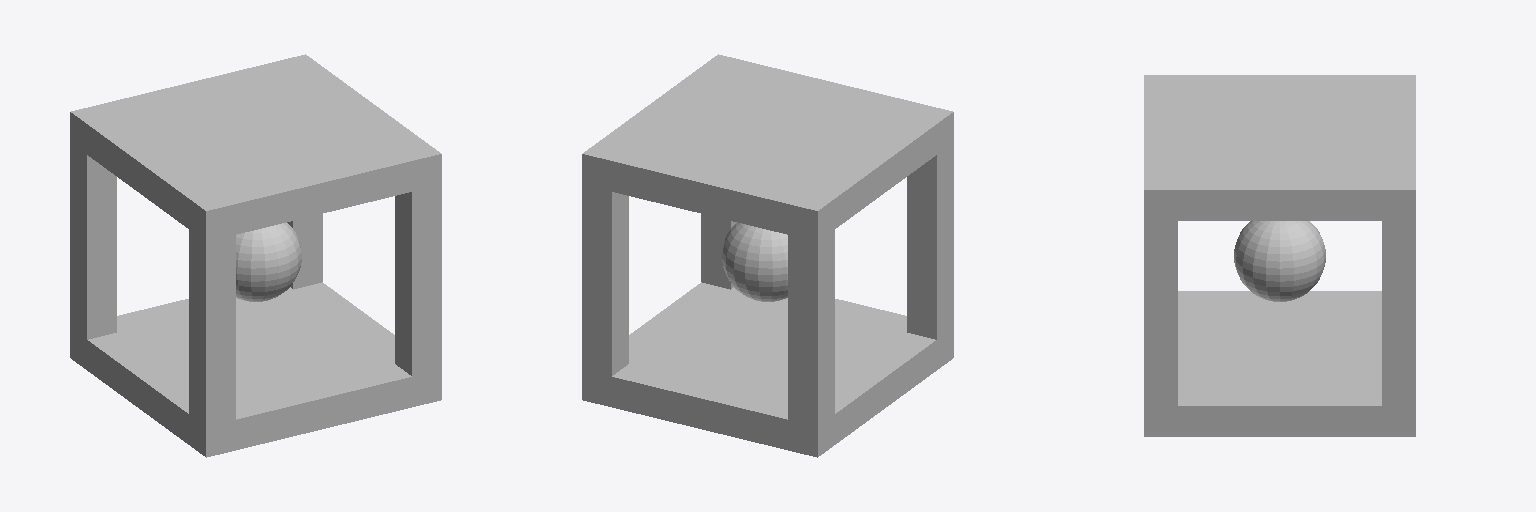
Rendered from contained_black_hole_container.obj.
The picture shows the model from 3 angles: view 1: azimuth 30°, elevation 25°; view 2: azimuth 150°, elevation 25°; view 3: azimuth 270°, elevation 25°; orthographic projection.
Parts seen in each view (by area): view 1: polySurface1; view 2: polySurface1; view 3: polySurface1.
Boxes of the visible parts, x1,y1,x2,y2 form: polySurface1: [70, 54, 441, 457]; polySurface1: [582, 54, 953, 457]; polySurface1: [1144, 75, 1415, 436].
Bounding box in the file's own units: 2 × 2 × 2.